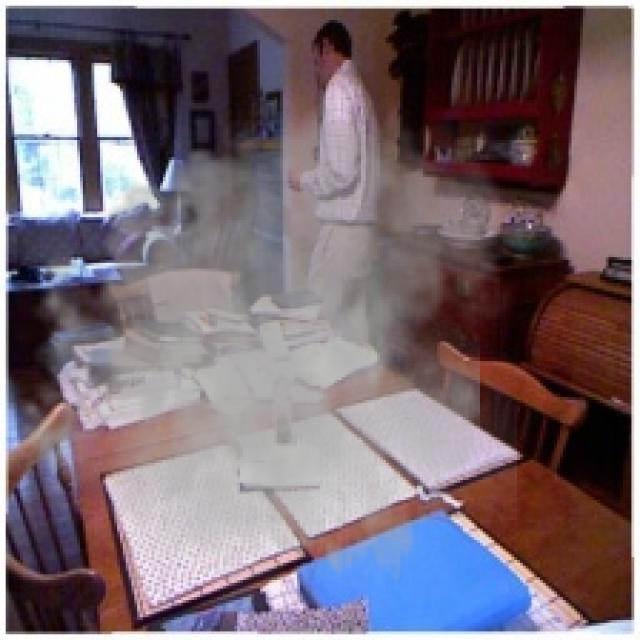smoke: (3, 86, 517, 617)
